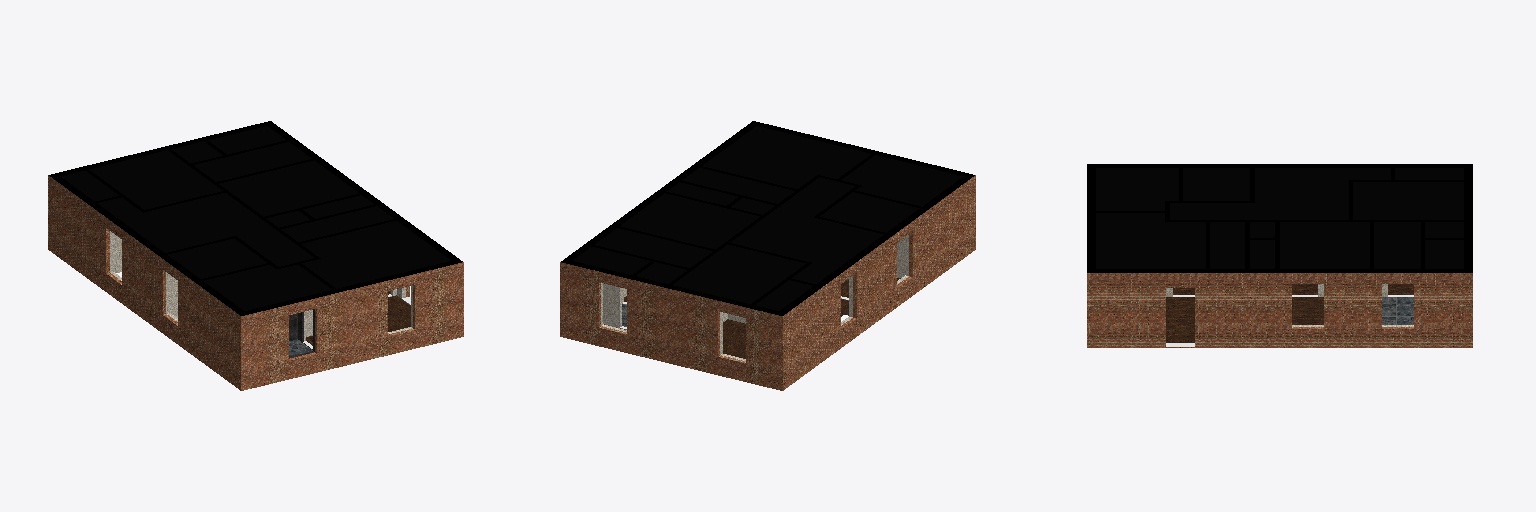
The picture shows the model from 3 angles: view 1: azimuth 30°, elevation 25°; view 2: azimuth 150°, elevation 25°; view 3: azimuth 270°, elevation 25°; orthographic projection.
Visible parts, largest first — view 1: geometry_ceiling, geometry_rs-3780.010, geometry_rs-3780.012, geometry_rs-3780.013, geometry_rs-3780.014, geometry_rs-3780.011, geometry_wallTop.016, geometry_rs-3780.015, geometry_rs-2881.014, geometry_rs-13468; view 2: geometry_ceiling, geometry_rs-3780.007, geometry_rs-3780.013, geometry_rs-3780.003, geometry_rs-3780.014, geometry_rs-3780.011, geometry_wallTop.016, geometry_rs-3780.006, geometry_rs-3780.009, geometry_rs-3780.015, geometry_rs-2881.014, geometry_rs-13468; view 3: geometry_ceiling, geometry_rs-3780.008, geometry_rs-3780.002, geometry_rs-3780.001, geometry_rs-13468, geometry_rs-3780.005, geometry_wallTop.016, geometry_rs-3780, geometry_rs-3780.004, geometry_rs-380, geometry_wallTop.013, geometry_wallTop.010.
Part boxes in pixels (x1,y1,x2,y2): geometry_ceiling: (60,126,450,310); geometry_rs-3780.010: (339,262,463,366); geometry_rs-3780.012: (241,293,338,390); geometry_rs-3780.013: (88,205,158,330); geometry_rs-3780.014: (194,282,240,390); geometry_rs-3780.011: (48,175,87,278); geometry_wallTop.016: (85,140,396,289); geometry_rs-3780.015: (159,256,193,355); geometry_rs-2881.014: (114,234,396,340); geometry_rs-13468: (306,291,410,345); geometry_ceiling: (573,126,963,310); geometry_rs-3780.007: (666,288,747,382); geometry_rs-3780.013: (823,236,892,360); geometry_rs-3780.003: (560,262,628,353); geometry_rs-3780.014: (929,175,975,283); geometry_rs-3780.011: (783,287,822,390); geometry_wallTop.016: (591,154,922,304); geometry_rs-3780.006: (629,279,665,362); geometry_rs-3780.009: (748,308,782,390); geometry_rs-3780.015: (893,210,928,309); geometry_rs-2881.014: (603,238,904,329); geometry_rs-13468: (624,278,900,358); geometry_ceiling: (1096,168,1463,268); geometry_rs-3780.008: (1087,273,1207,347); geometry_rs-3780.002: (1277,273,1371,347); geometry_rs-3780.001: (1423,273,1472,347); geometry_rs-13468: (1166,284,1413,342); geometry_rs-3780.005: (1208,273,1246,347); geometry_wallTop.016: (1095,167,1465,269); geometry_rs-3780: (1372,273,1422,347); geometry_rs-3780.004: (1247,273,1276,347); geometry_rs-380: (1382,297,1413,324); geometry_wallTop.013: (1252,164,1392,167); geometry_wallTop.010: (1087,212,1095,272).
Size of the model in its own units: 8.71 by 2.8 by 13.1.
Materials: 18 (9 with a texture image).